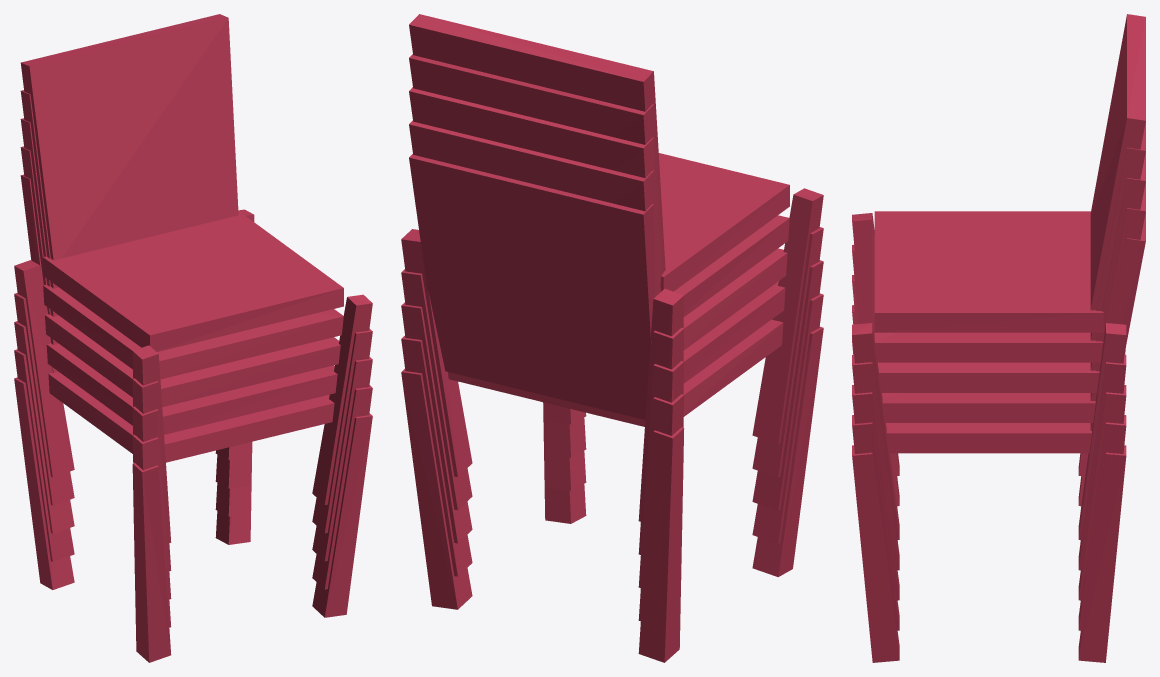
File: plastic-chair-stack-00.glb
3 renders of one model, left to right at view 1: azimuth 30°, elevation 25°; view 2: azimuth 150°, elevation 25°; view 3: azimuth 270°, elevation 25°, orthographic. The views are drawn at different scales.
Parts seen in each view (by area): view 1: plastic_chair_stack_00; view 2: plastic_chair_stack_00; view 3: plastic_chair_stack_00.
Boxes of the visible parts, bbox=[...] form: plastic_chair_stack_00: bbox=[14, 14, 372, 662]; plastic_chair_stack_00: bbox=[401, 14, 823, 662]; plastic_chair_stack_00: bbox=[852, 14, 1145, 662].
Bounding box in the file's own units: 0.5403 × 1.14 × 0.5566.
